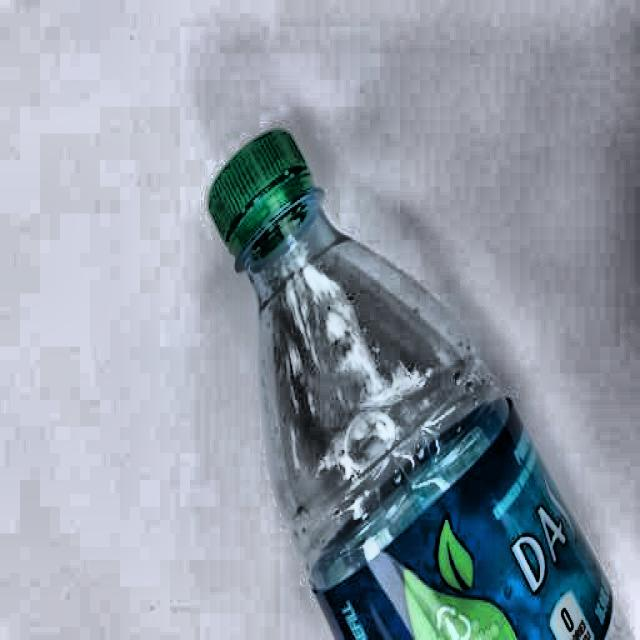plastic: (205, 127, 640, 640)
